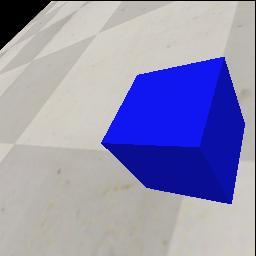box: (101, 56, 246, 205)
